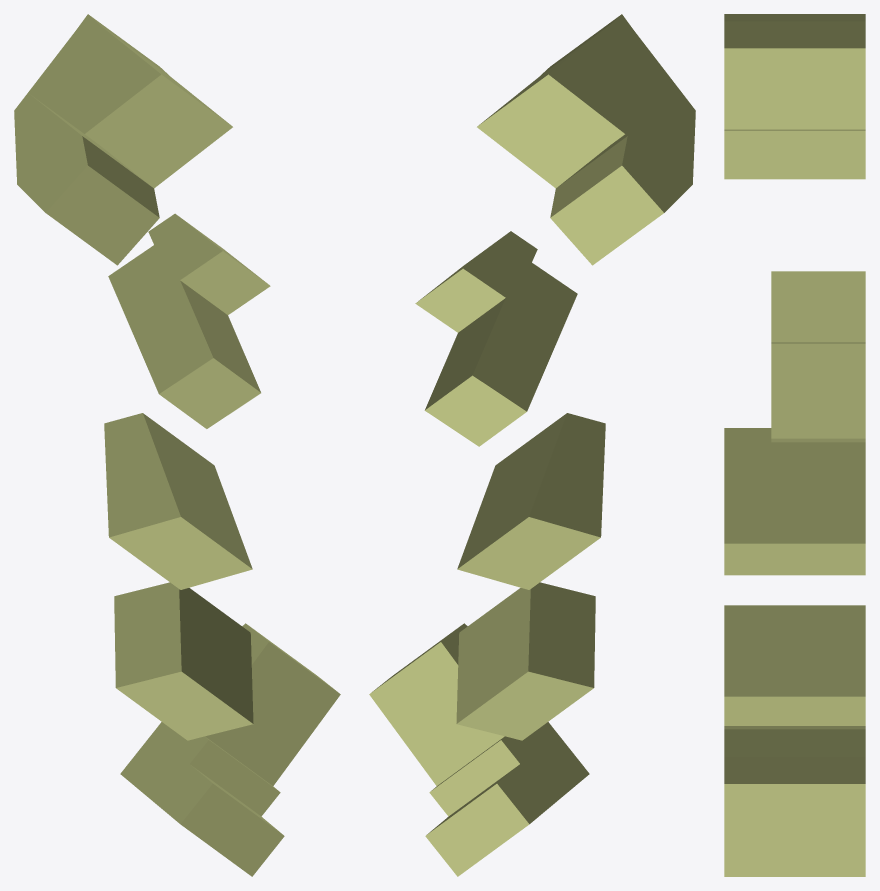
3 renders of one model, left to right at view 1: azimuth 30°, elevation 25°; view 2: azimuth 150°, elevation 25°; view 3: azimuth 270°, elevation 25°, orthographic.
Visible parts, largest first — view 1: 0_1_2_0_3_3_0_1; view 2: 0_1_2_0_3_3_0_1; view 3: 0_1_2_0_3_3_0_1.
Boxes of the visible parts, x1,y1,x2,y2 form: 0_1_2_0_3_3_0_1: (14, 14, 340, 876); 0_1_2_0_3_3_0_1: (369, 14, 695, 876); 0_1_2_0_3_3_0_1: (724, 14, 865, 876).
Size of the model in its own units: 18.43 by 57.57 by 9.
